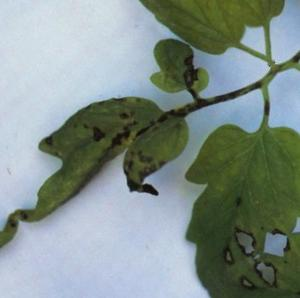Tomato leaf bacterial spot: (0, 67, 213, 265), (129, 91, 300, 293)
